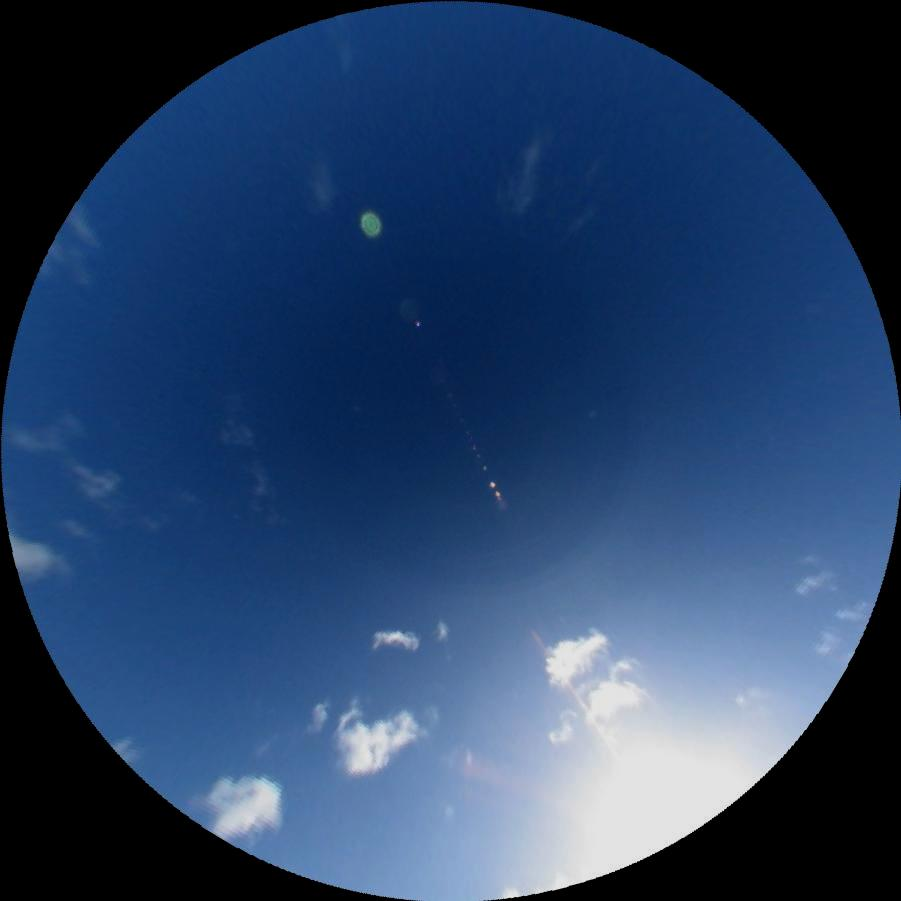parasite: (526, 621, 621, 758)
sun: (525, 709, 748, 895)
